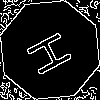H: (25, 25, 83, 79)
